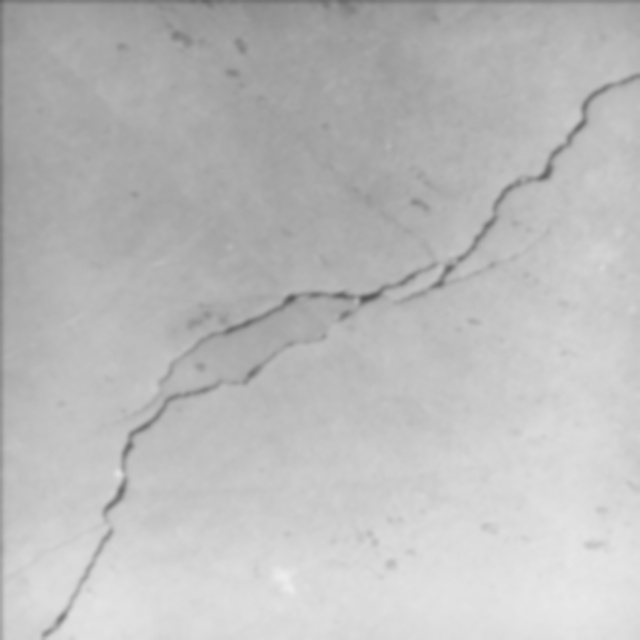SurfaceCrack: (0, 9, 638, 640)
